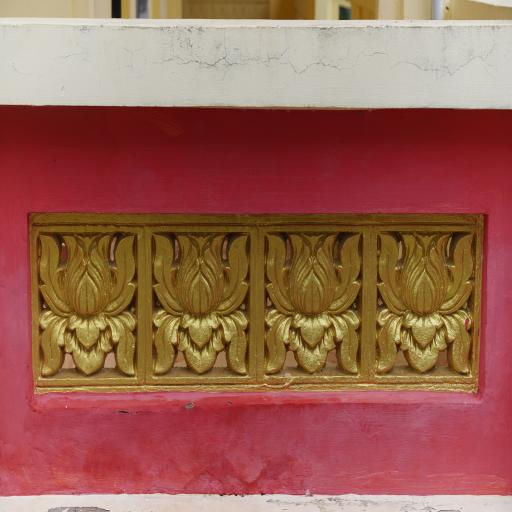hoa: (28, 219, 141, 397), (143, 224, 258, 394), (372, 222, 479, 394), (263, 218, 358, 389)
